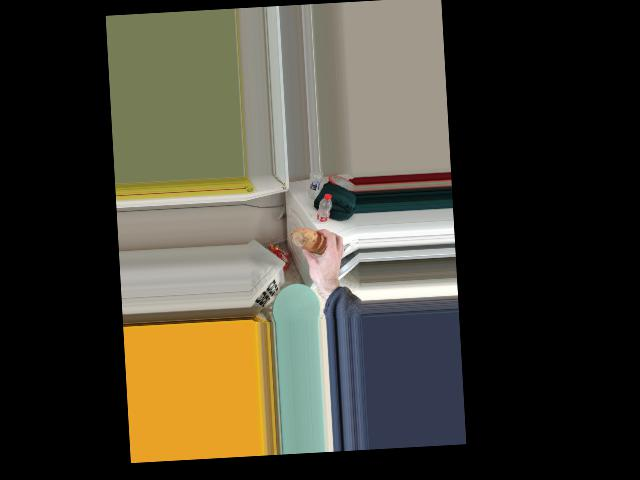sweet_potato: (297, 226, 326, 255)
